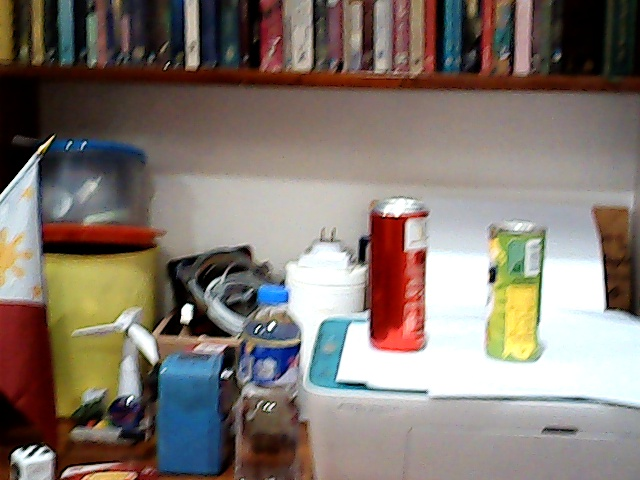Cola: (365, 191, 434, 358)
Pine Juice: (482, 214, 549, 367)
Summit Water: (233, 282, 307, 480)
